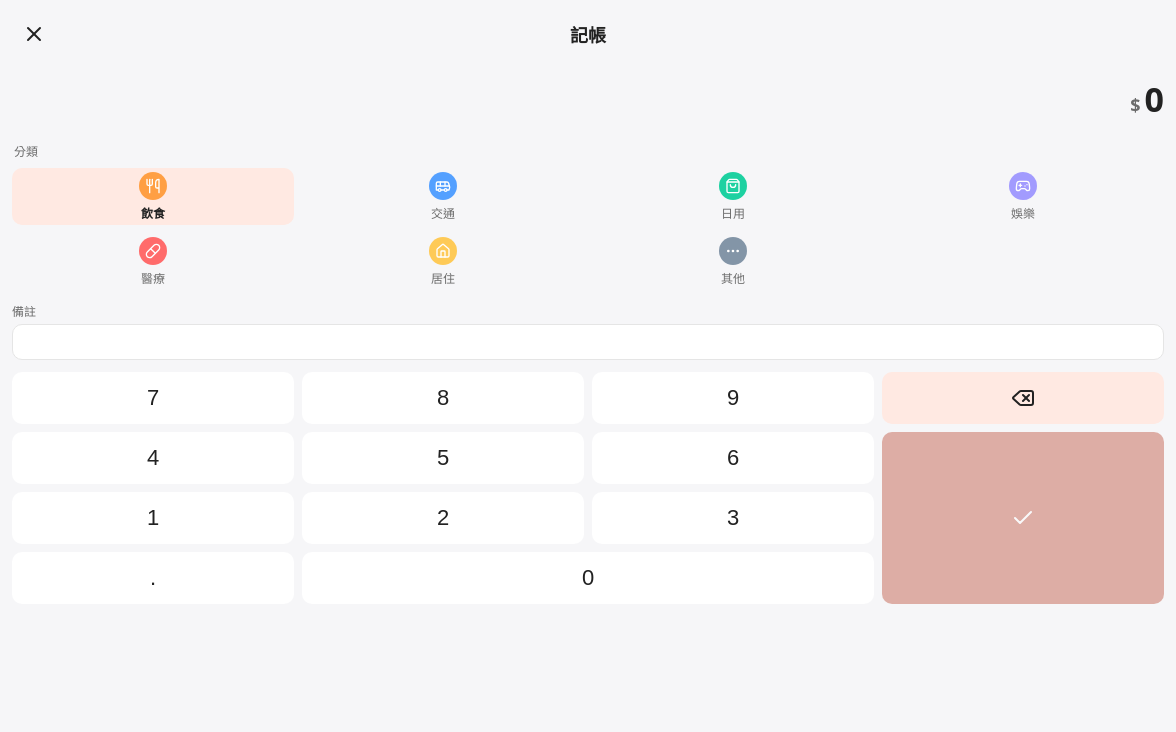
Test: 記帳 /expenses/new › 送出中 ✓ 停用，只送一次
Step 1. Click the button "1" → (153, 518), box [12,492,294,544]
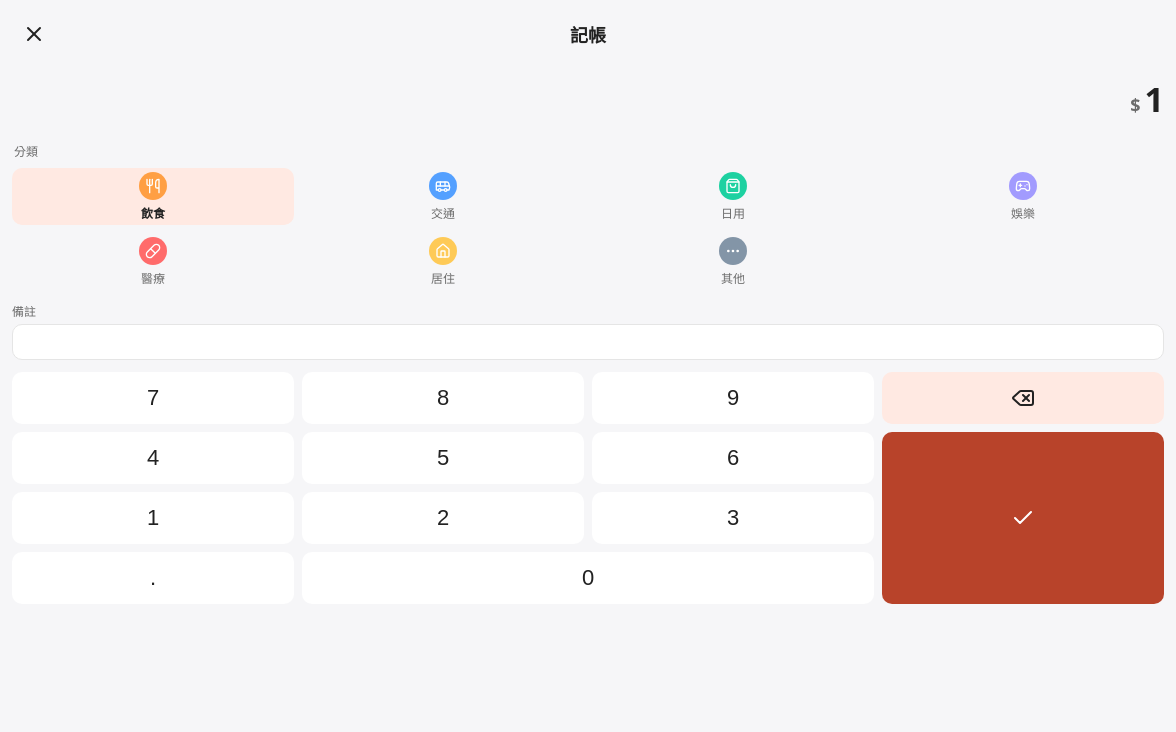
Step 2. Click the button named "記一筆" → (1023, 518), box [882,432,1164,604]
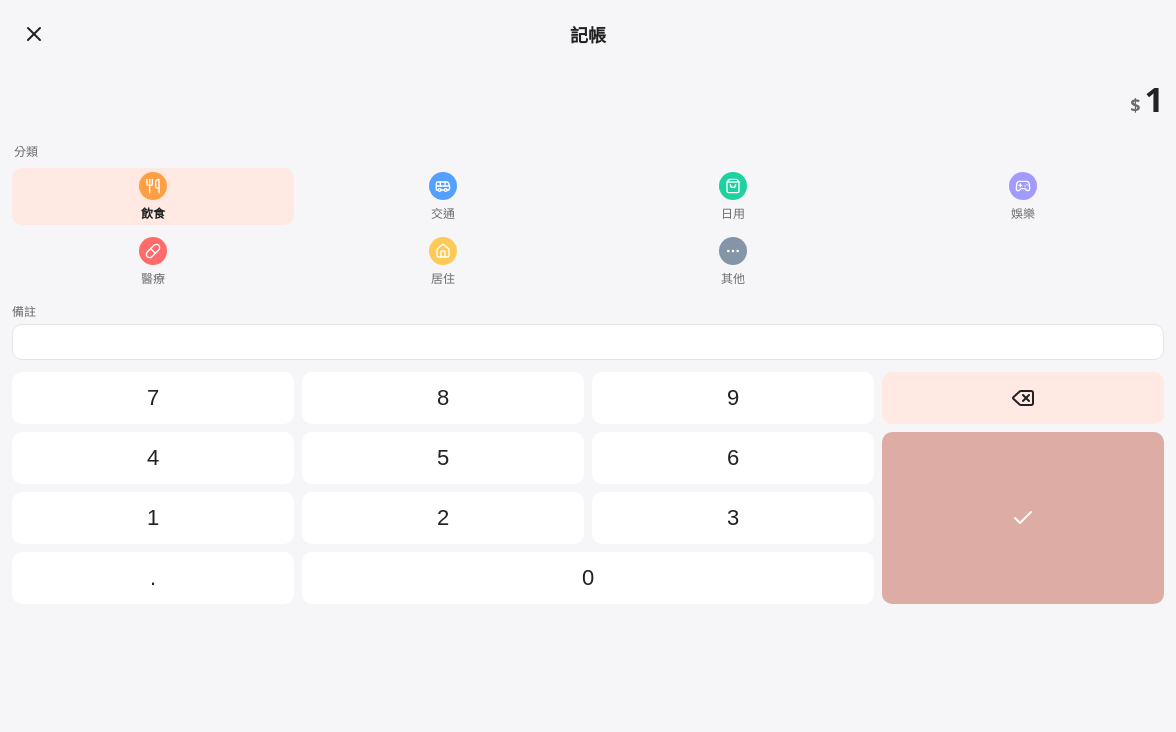
Now the button named "記一筆" is disabled, box [882,432,1164,604]
